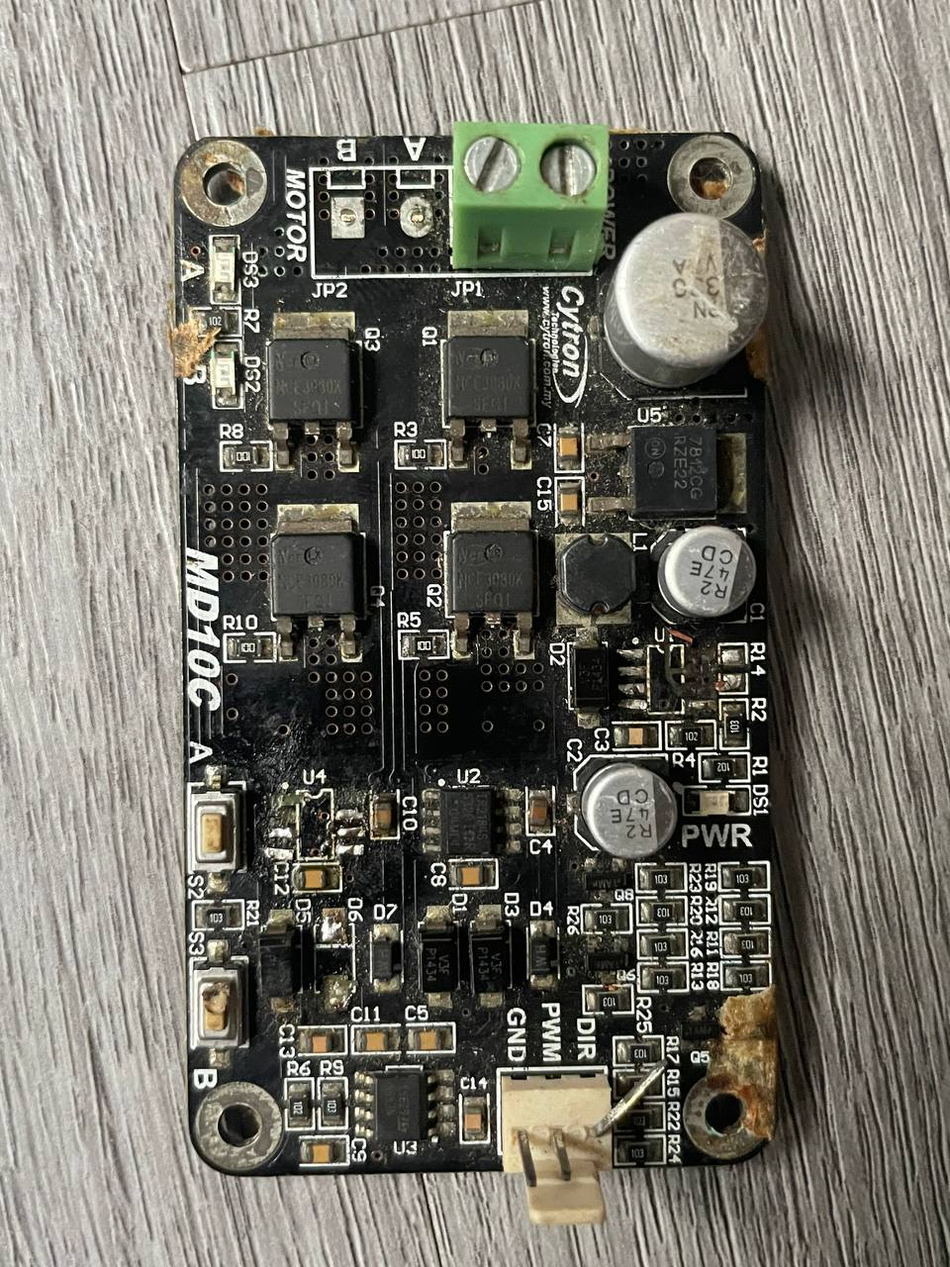bent_pin: (579, 1057, 676, 1140)
missing_comp: (638, 641, 693, 720), (309, 917, 358, 1004), (293, 788, 339, 865)
missing_tb: (306, 138, 459, 283)
